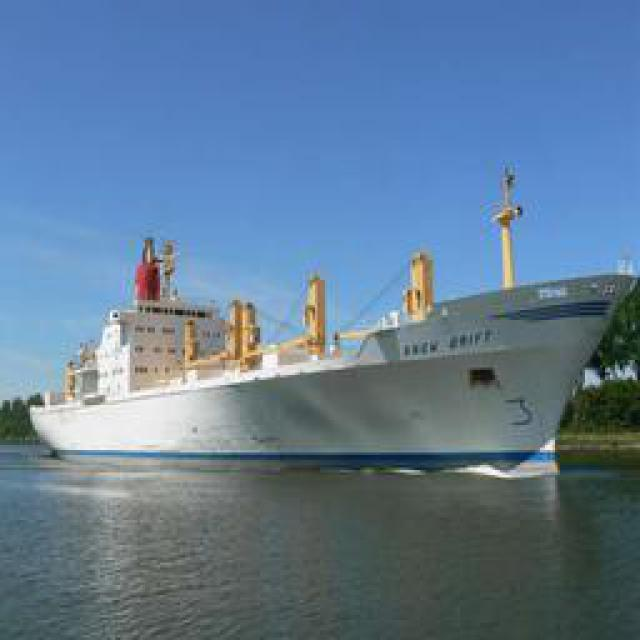Ship: (37, 218, 625, 466)
